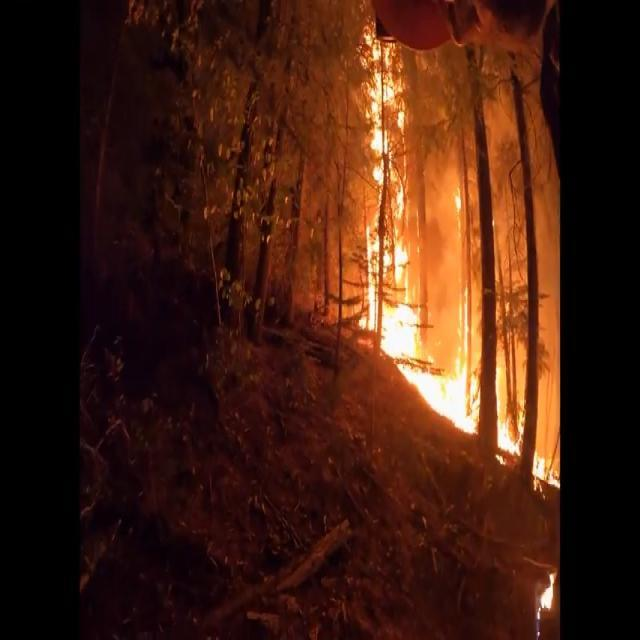Fire: (359, 16, 562, 494)
